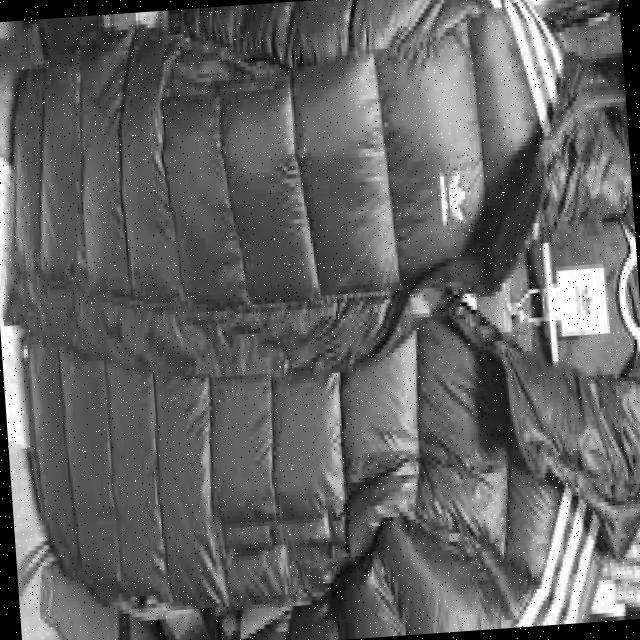Adidas: (442, 153, 474, 237), (578, 281, 599, 327)
